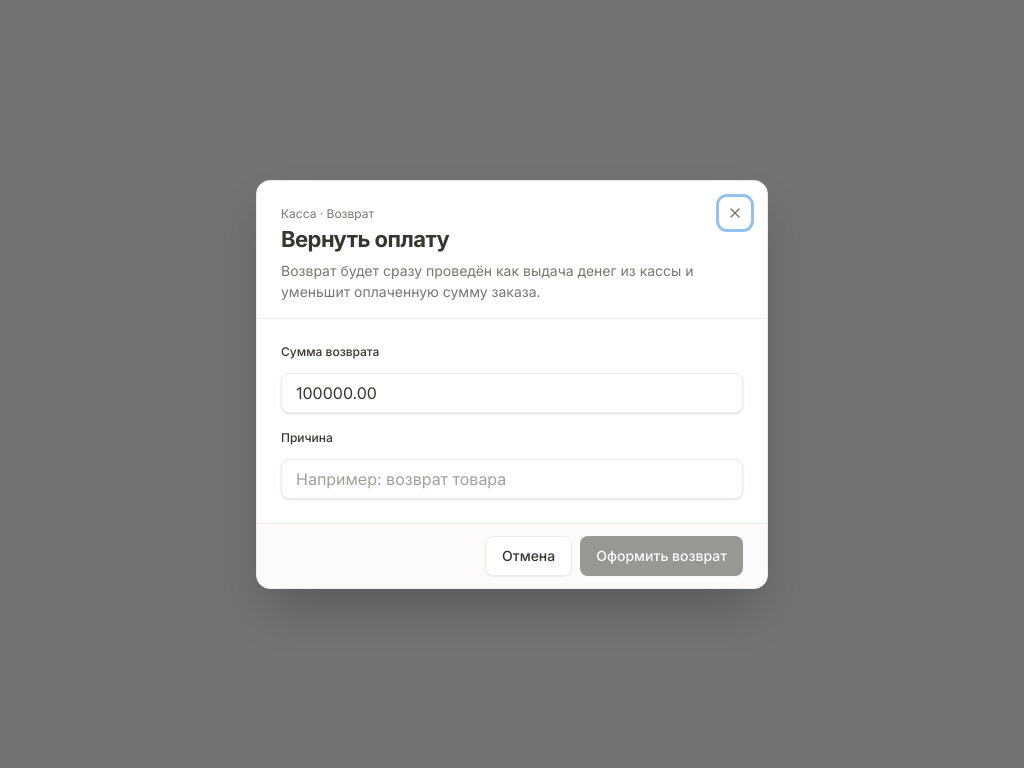
PaymentRefundModal › keeps a failed refund inside the dialog
Type "Переплата" into the field labelled "Причина".
click(512, 478); type("Переплата")  # box [281, 458, 743, 498]
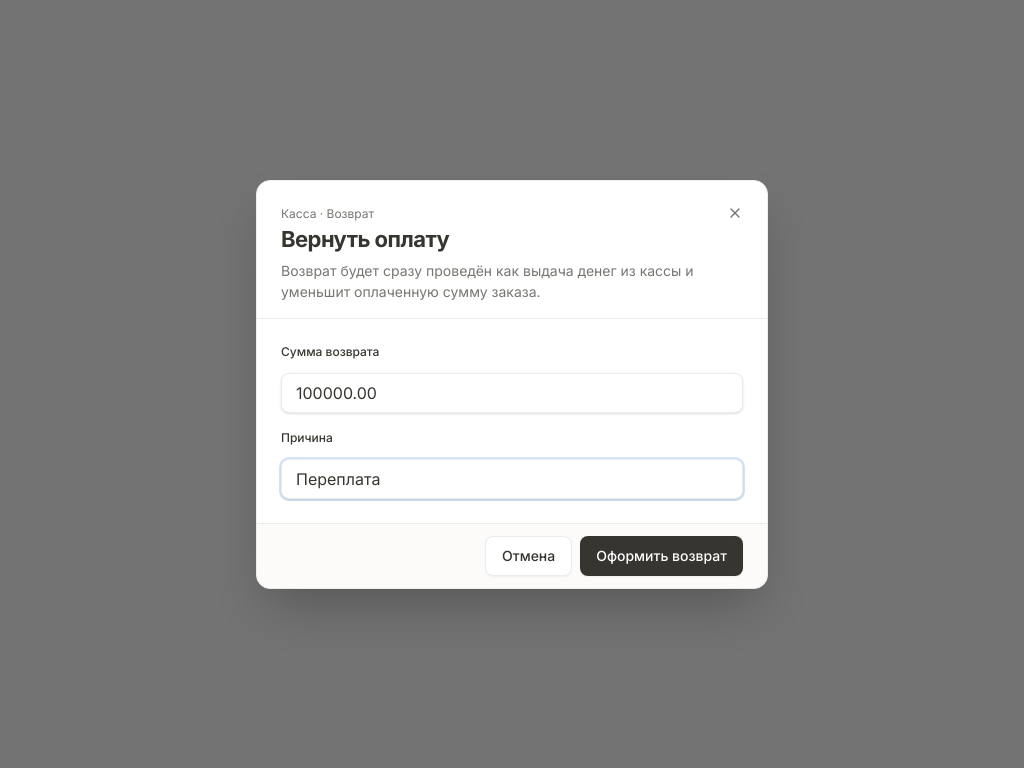
Click the button "Оформить возврат".
click(662, 556)  # box [580, 536, 743, 576]
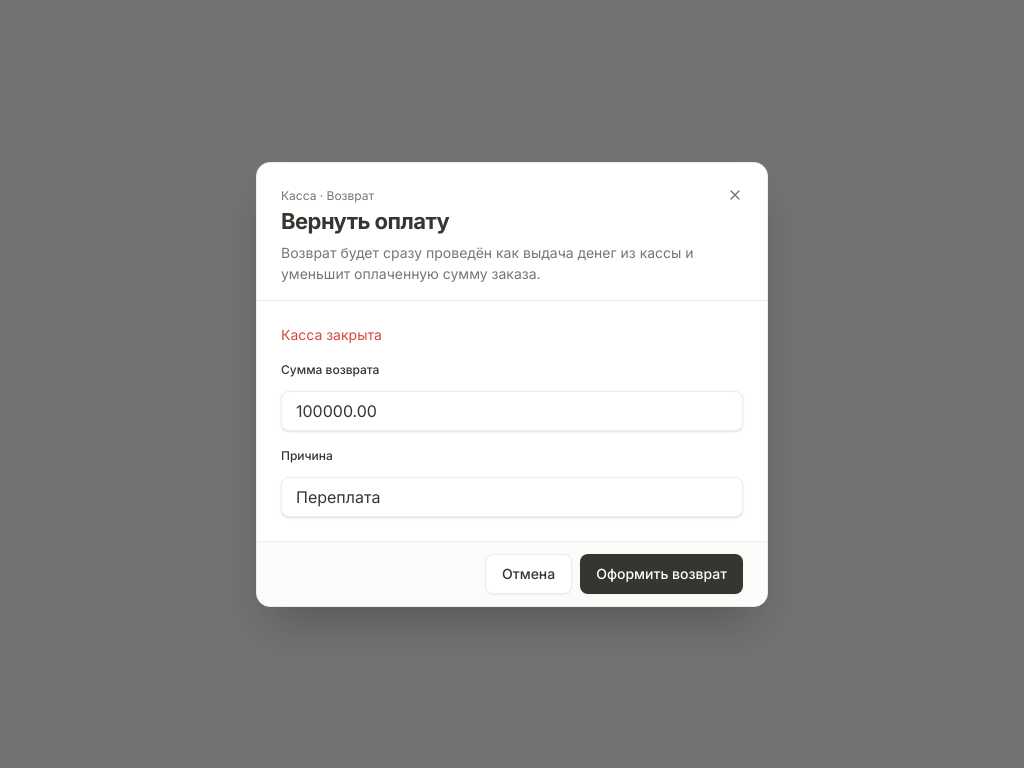
Expected: the message reads "Касса закрыта", [281, 326, 382, 342]
